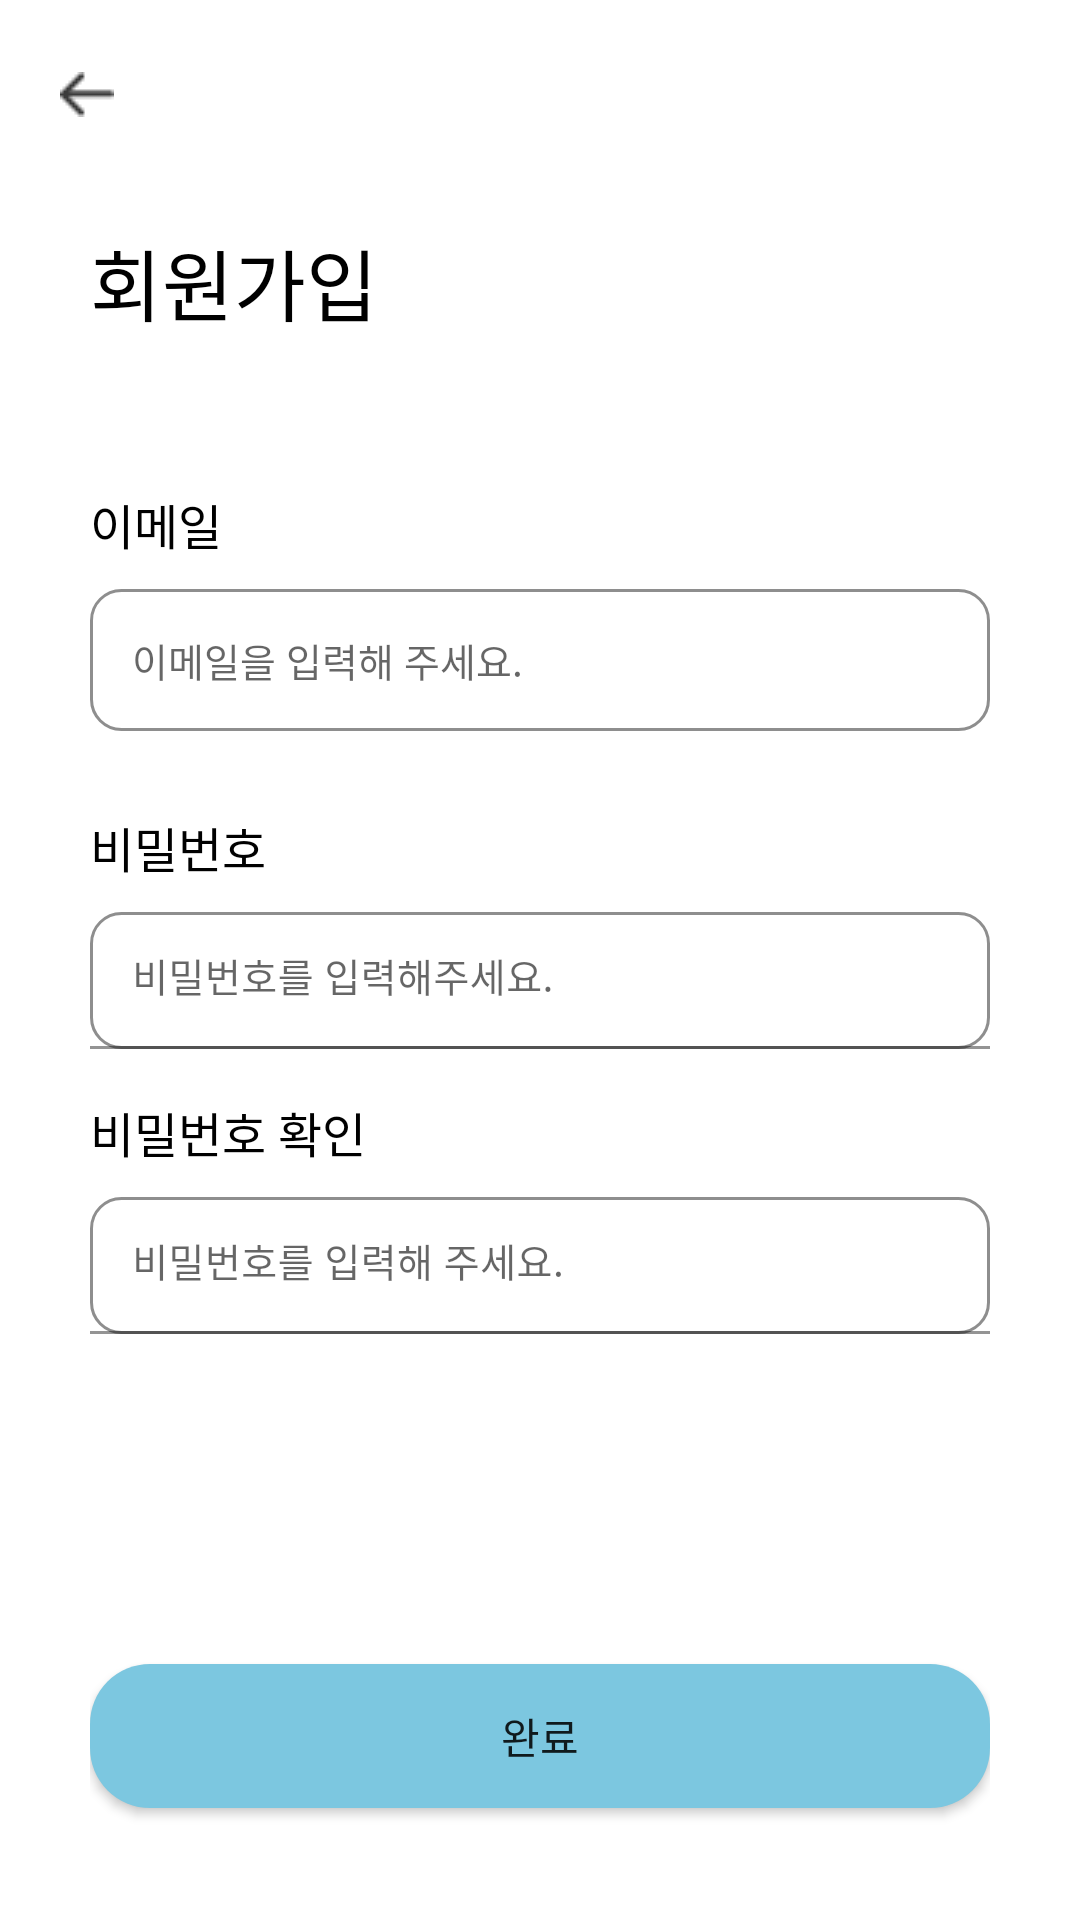

Named icons in this screenshot (1080*1920) and their centers, point (x, y):
back: point (87, 94)
